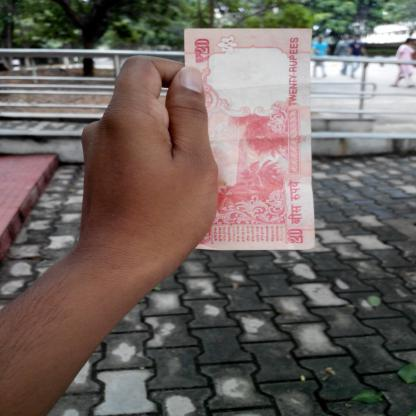Old20Back: (184, 28, 316, 251)
